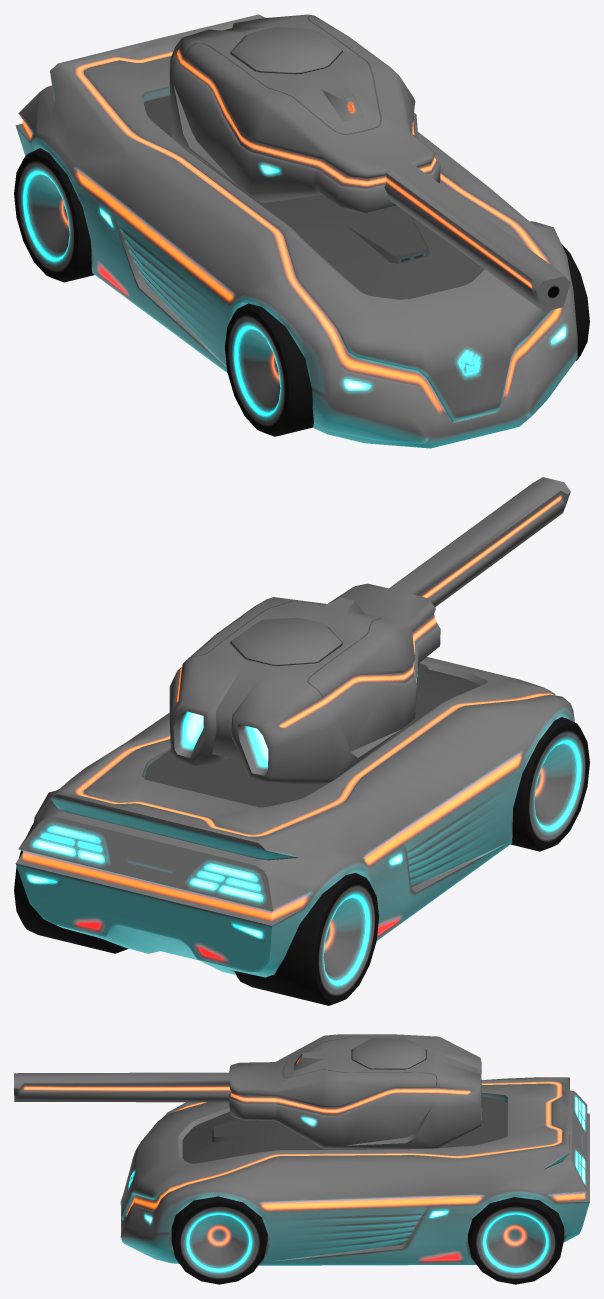
The model's file is Minigame_Synth_Tank.glb.
The picture shows the model from 3 angles, top to bottom: view 1: azimuth 30°, elevation 25°; view 2: azimuth 150°, elevation 25°; view 3: azimuth 270°, elevation 25°; orthographic projection. The views are drawn at different scales.
Visible parts, largest first — view 1: Player; view 2: Player; view 3: Player.
Boxes of the visible parts, x1,y1,x2,y2 form: Player: [14, 14, 589, 448]; Player: [14, 477, 589, 1005]; Player: [14, 1034, 589, 1284].
Size of the model in its own units: 4.12 by 3.44 by 9.71.
2 materials, 2 textured.
